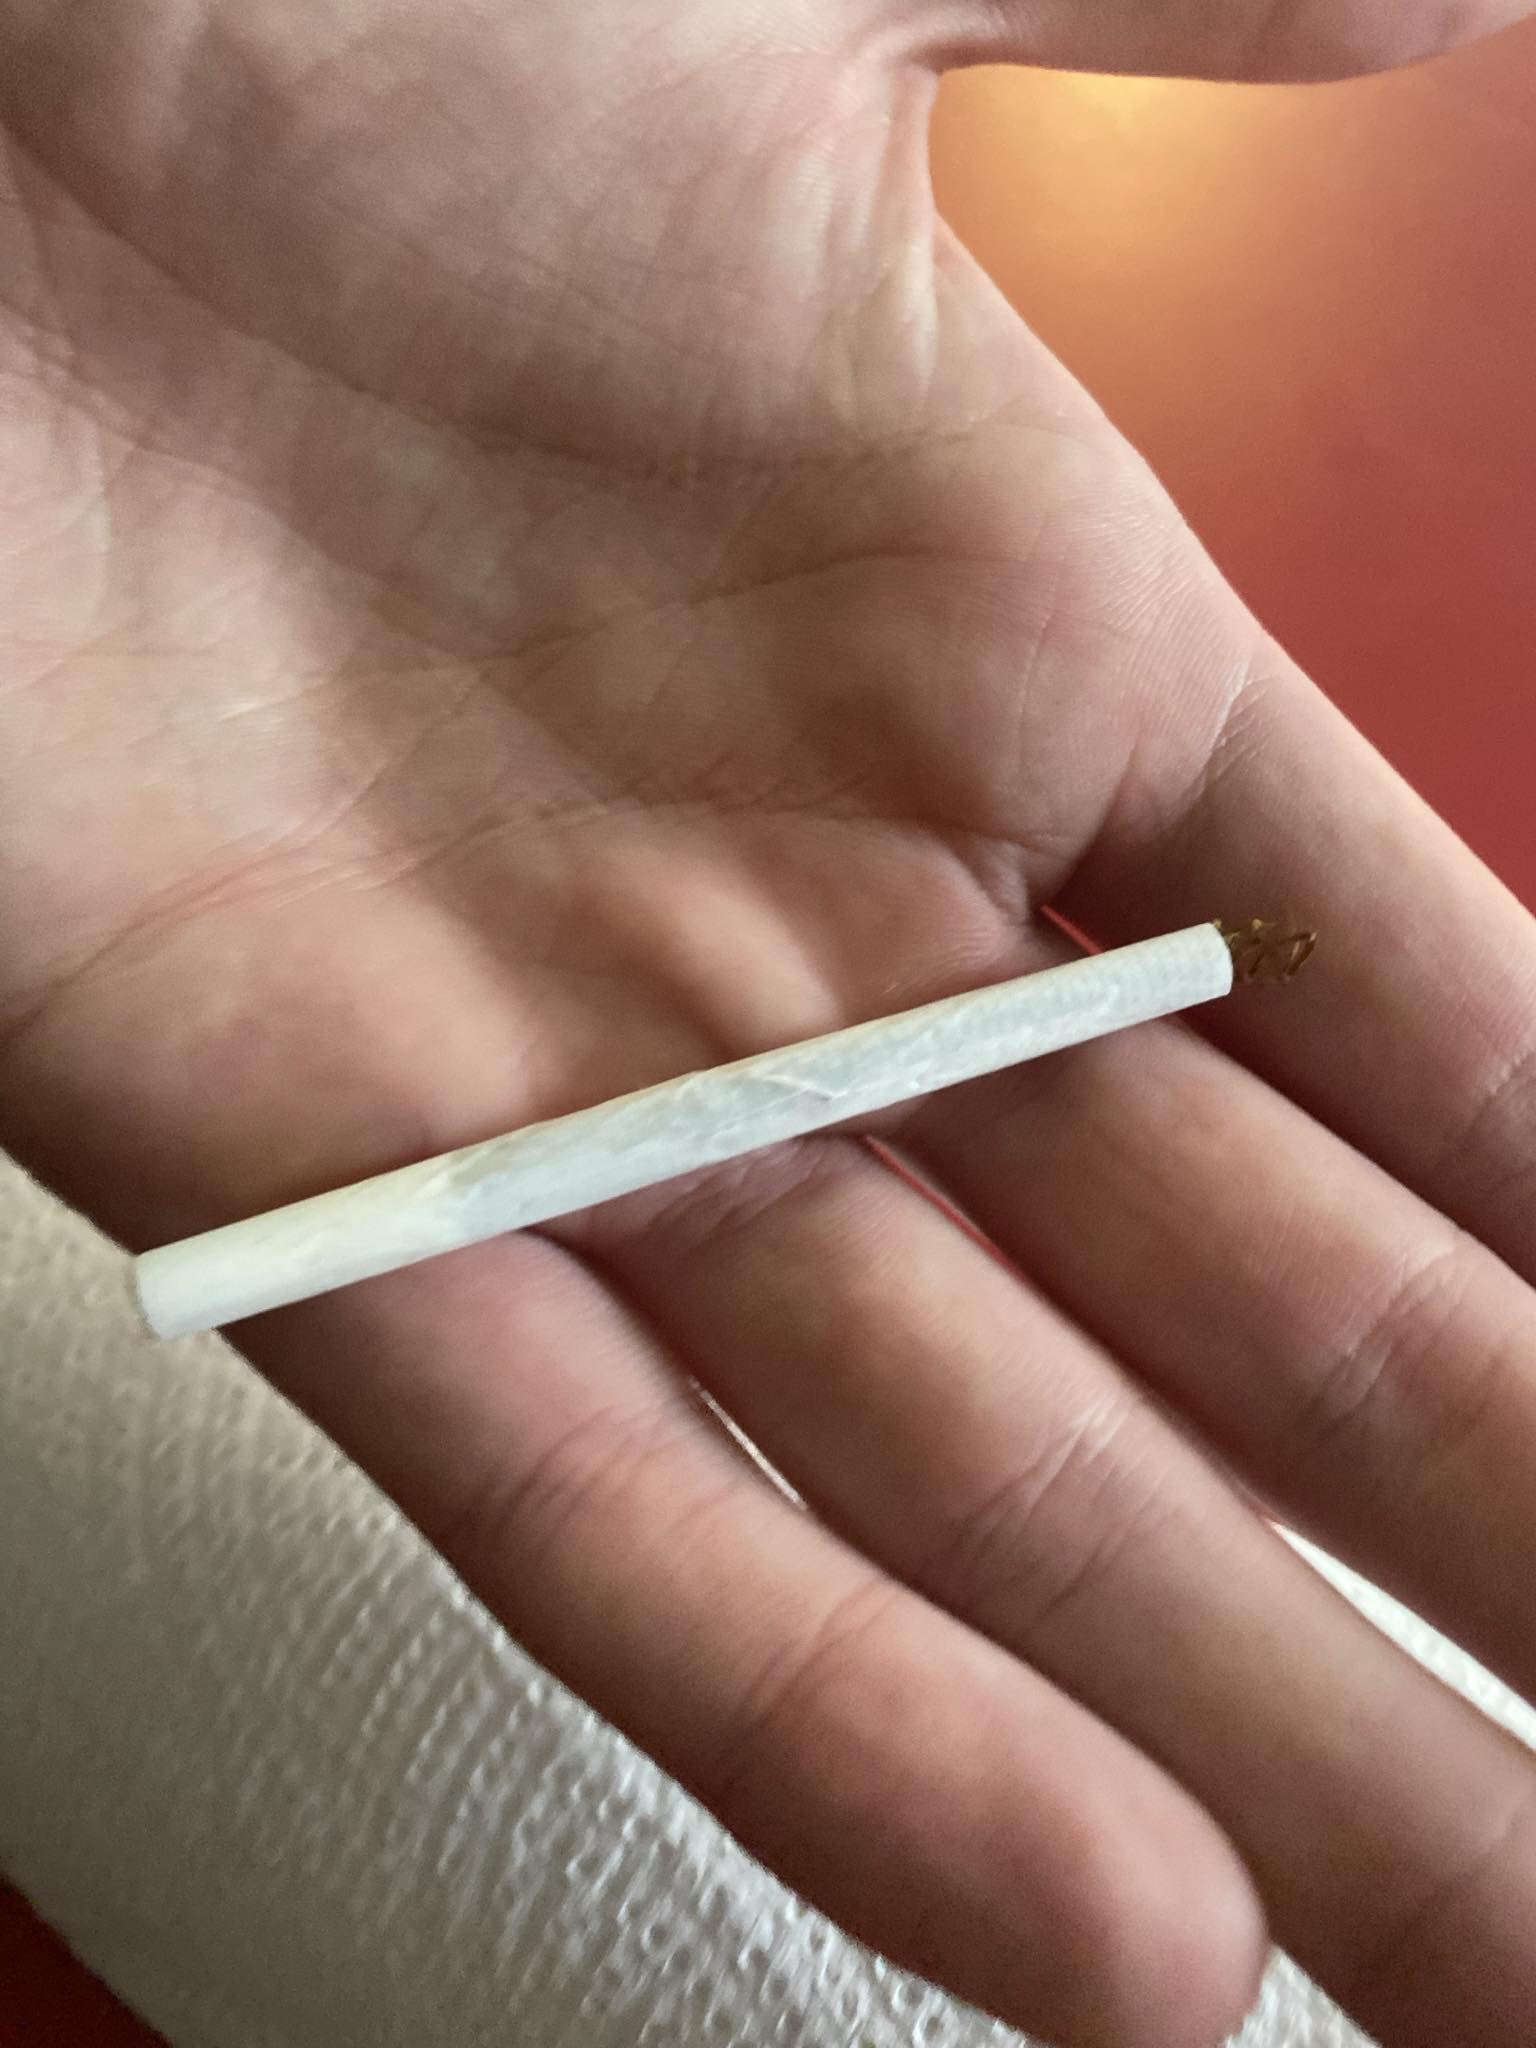Cigarette: (136, 922, 1318, 1342)
